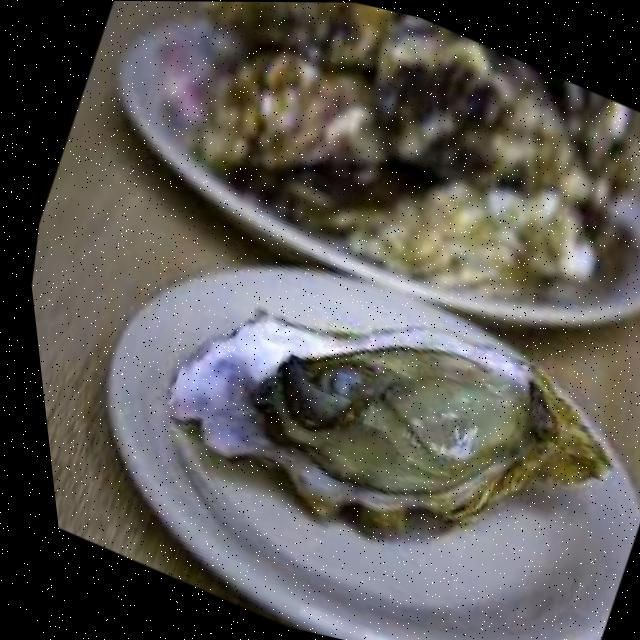Oyster-Indeterminate: (374, 16, 640, 236), (286, 156, 636, 301), (196, 52, 386, 187), (200, 1, 399, 77)
Oyster-Open: (167, 311, 610, 529)
